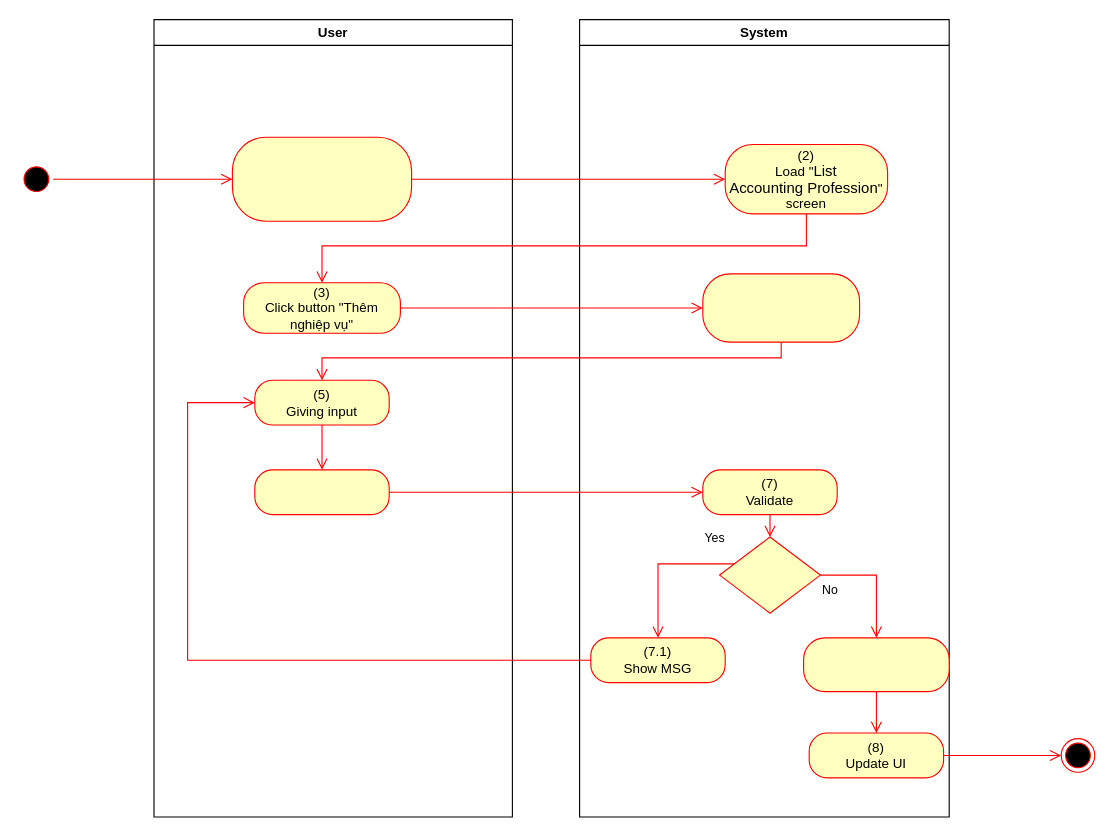
The diagram is 1114 pixels wide and 837 high, and some of its shapes have lost their labels. The shapes that lost their labels are listed below. From the top down, each one's centre as x and y in pixels, then its label:
(x=321, y=178): (1) On "left menu" click " Accouting Finance – List Accounting Profession "
(x=781, y=307): (4) Load " CRUD Accounting Profession Form "
(x=321, y=492): (6) Click "Lưu"
(x=875, y=664): (7.2) Push new Accounting Profession to DB
